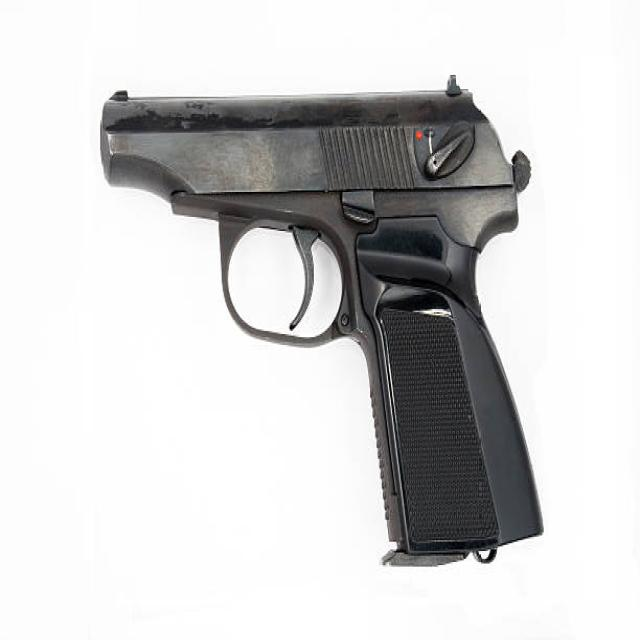pistol: (93, 66, 553, 581)
